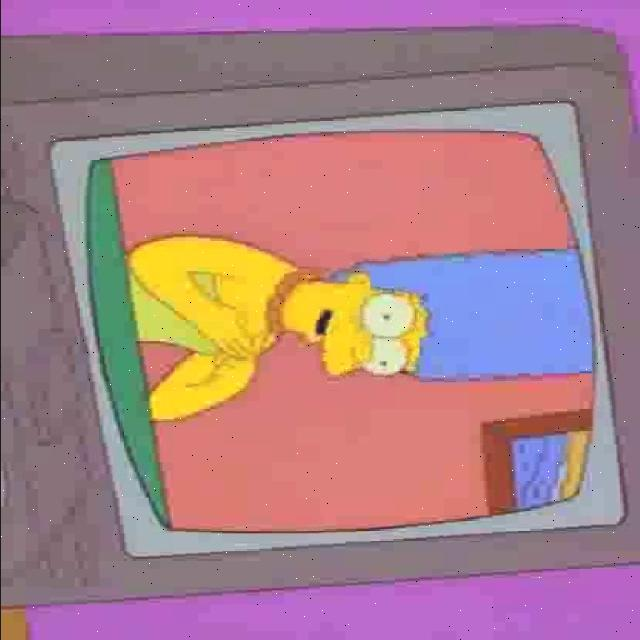Marge Simpson: (278, 248, 598, 385)
